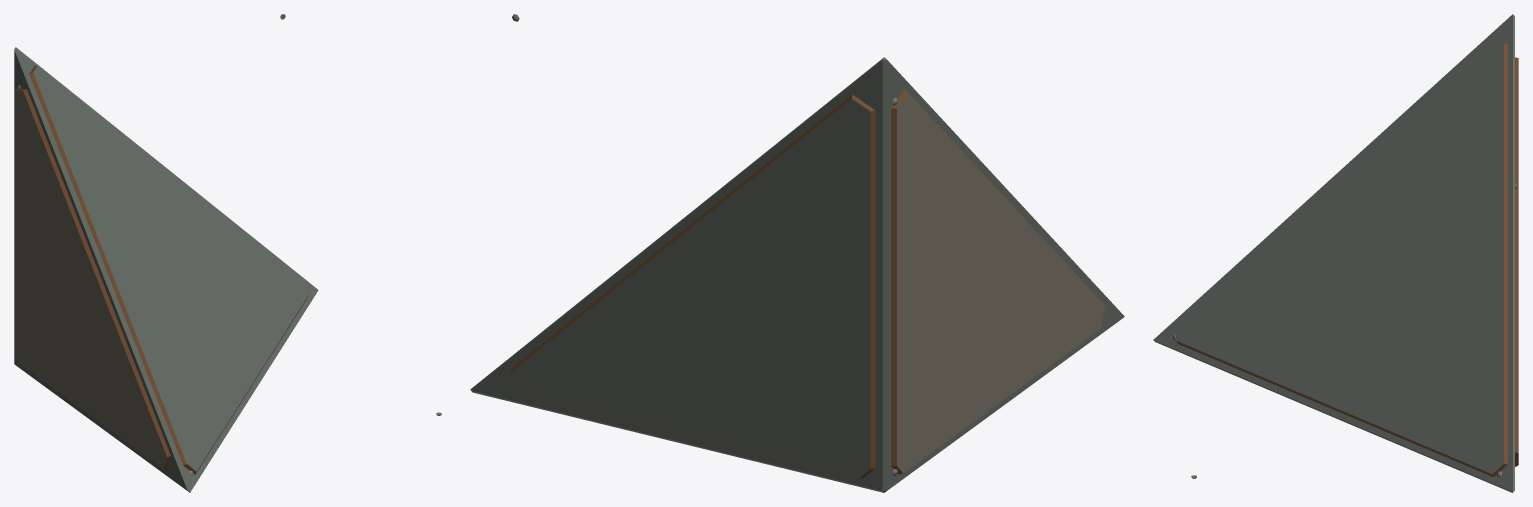
The model's file is R4B_Tetra.fbx.
The picture shows the model from 3 angles, left to right: view 1: azimuth 30°, elevation 25°; view 2: azimuth 150°, elevation 25°; view 3: azimuth 270°, elevation 25°; orthographic projection. The views are drawn at different scales.
Parts seen in each view (by area): view 1: R4B_Tetra; view 2: R4B_Tetra; view 3: R4B_Tetra.
Part boxes in pixels (x1,y1,x2,y2): R4B_Tetra: (14, 14, 441, 492); R4B_Tetra: (470, 14, 1124, 492); R4B_Tetra: (1153, 14, 1518, 492).
Bounding box in the file's own units: 0.4954 × 0.4954 × 0.4954.
